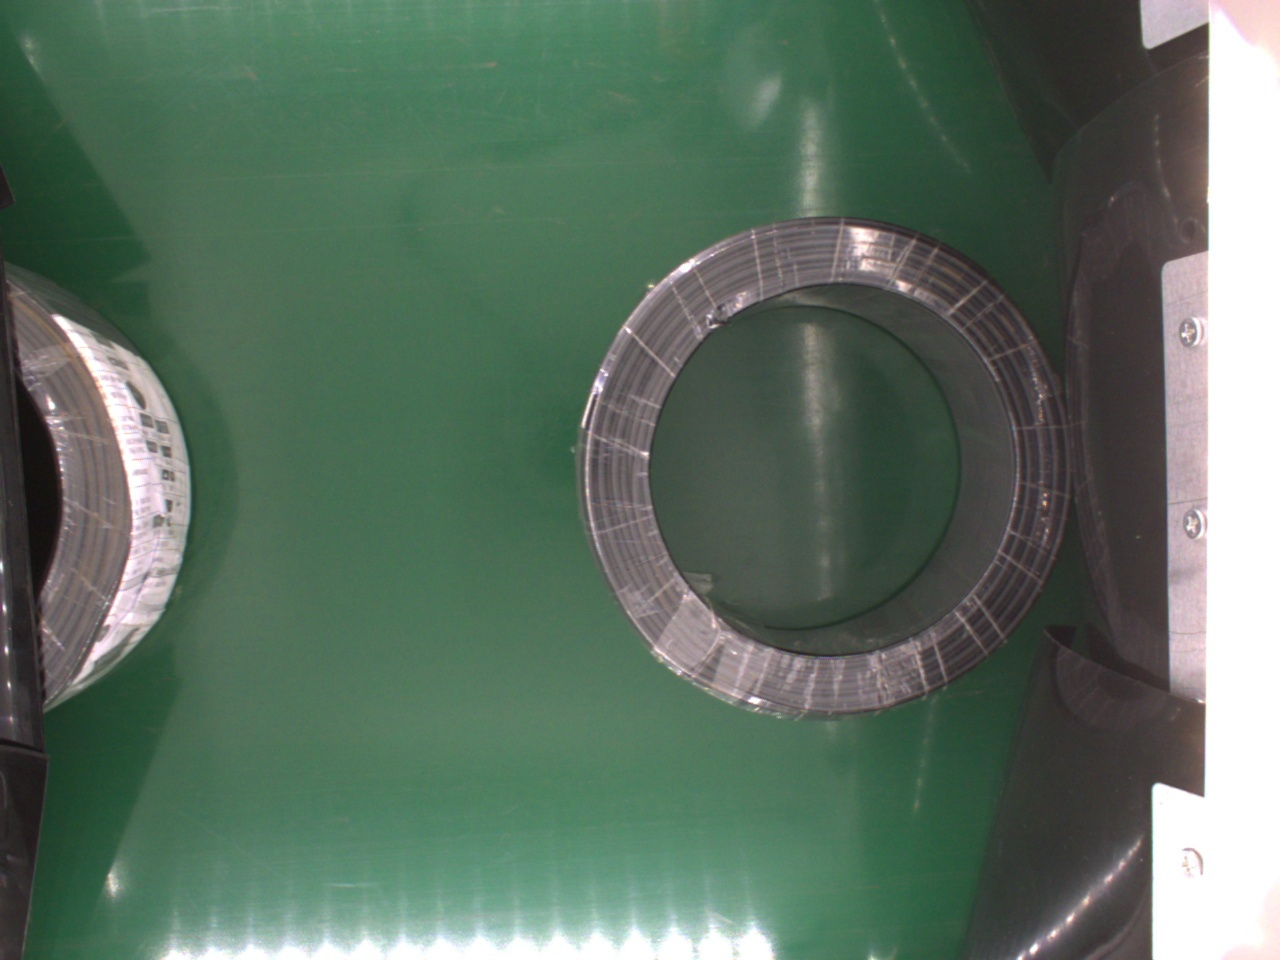black: (575, 213, 1075, 721), (9, 263, 198, 706)
